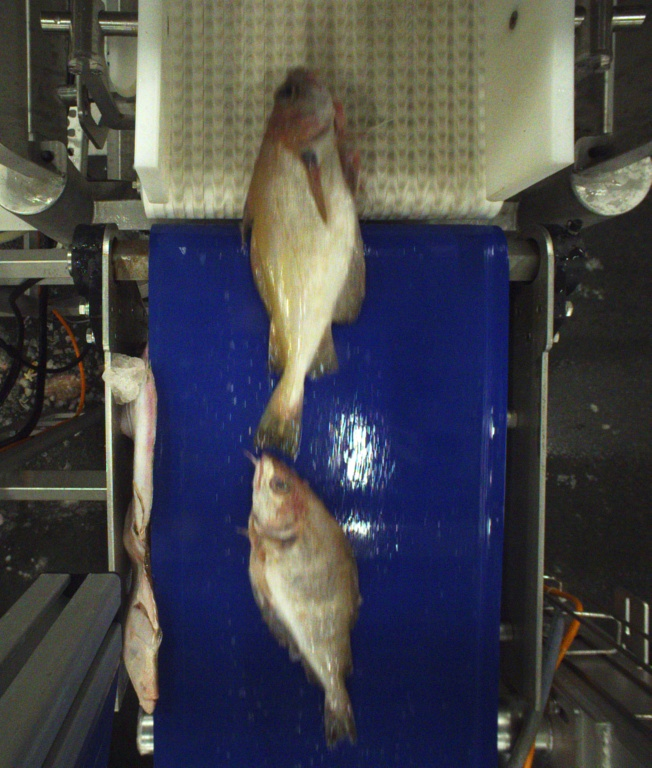BIB: (240, 66, 368, 455)
